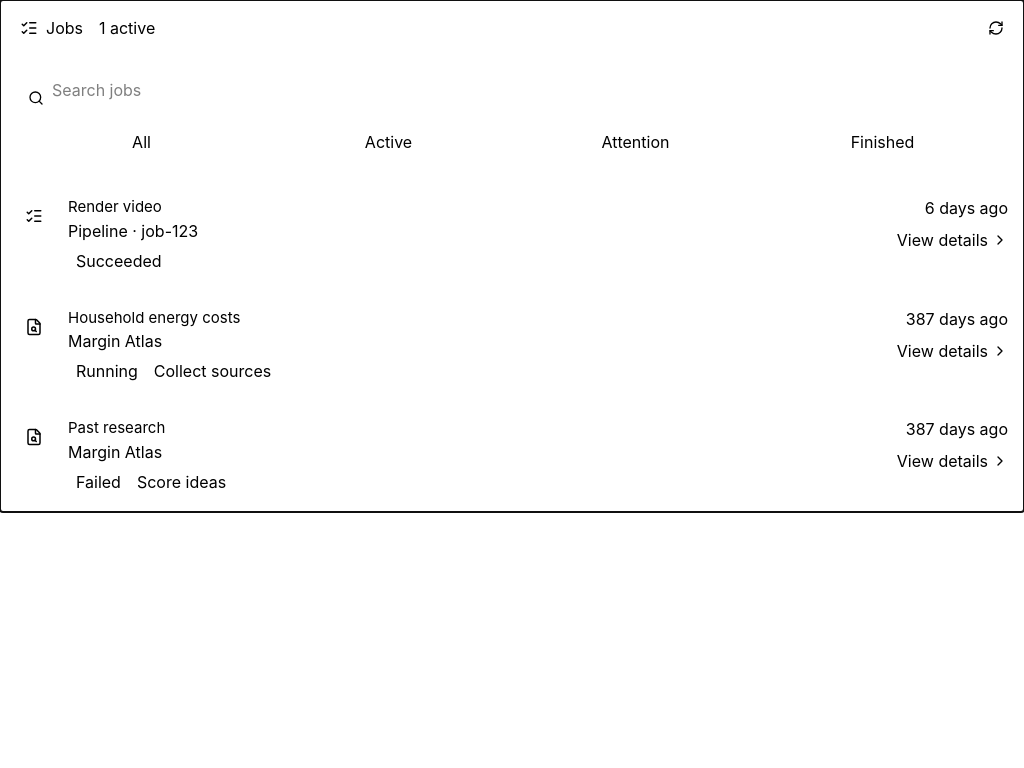
Scenario: Jobs & QA discovery visibility › puts recently updated jobs first regardless of status and filters jobs needing attention
Expected: the button that starts with "Render video" is shown, left=0, top=180, right=1023, bottom=290
Expected: the text "Render video" is shown, left=68, top=197, right=162, bottom=216
Click the button with aria-label "Needs attention": (636, 142) left=514, top=124, right=757, bottom=160
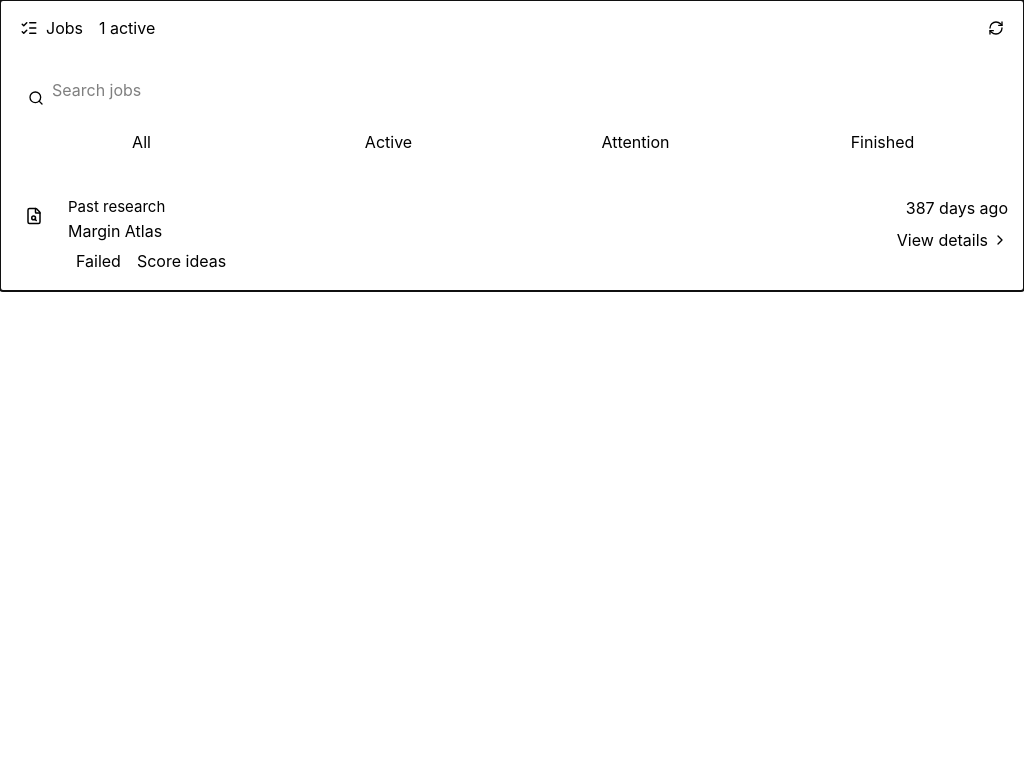
Expected: the text "Past research" is shown, left=68, top=197, right=165, bottom=216
Expected: the button "Household energy costs" is gone
Click the button "Past research": (117, 206) left=0, top=180, right=1023, bottom=290
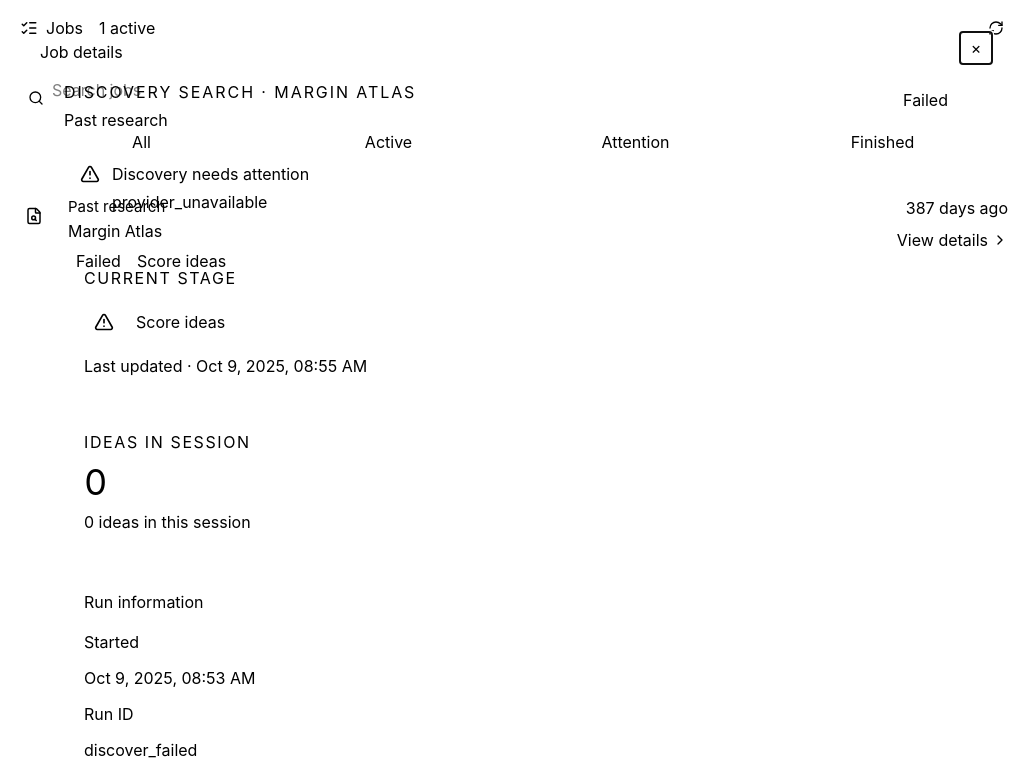
Expected: the text "provider_unavailable" is shown, left=112, top=192, right=268, bottom=212
